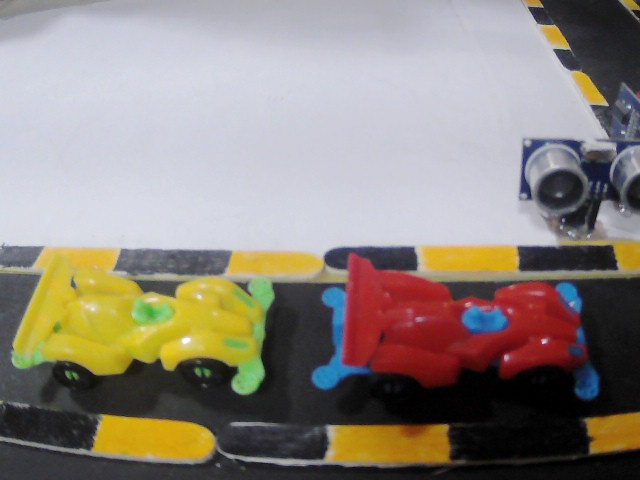car: (332, 246, 608, 388), (29, 253, 292, 388)
uno_breadboard: (532, 140, 640, 205), (603, 82, 640, 141)
